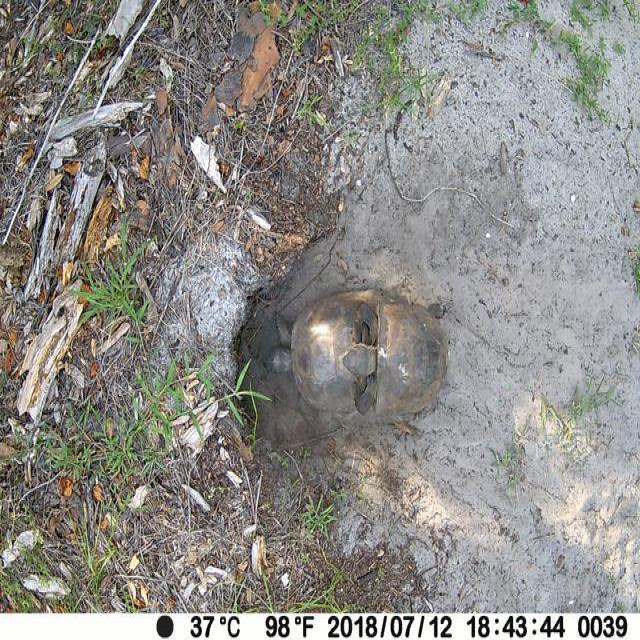tortoise: (263, 285, 405, 415), (341, 299, 446, 417)
